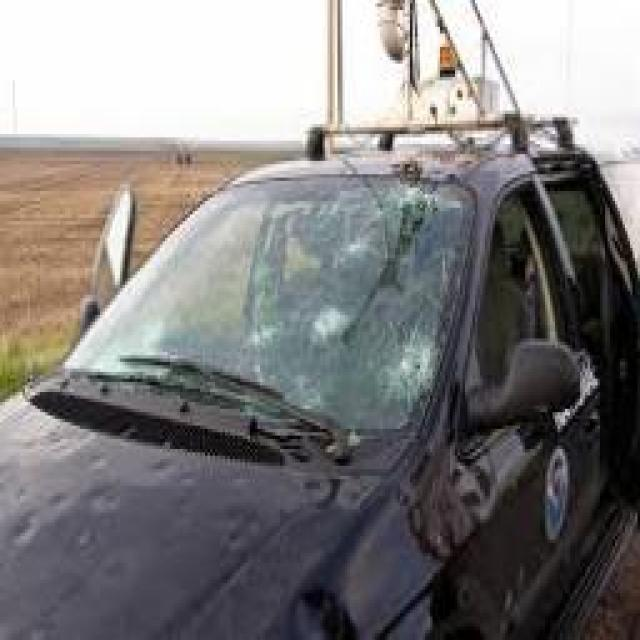rapairable: (20, 457, 146, 594), (283, 583, 368, 640), (310, 471, 358, 538)
replaceable: (263, 223, 454, 404), (418, 428, 504, 548)
